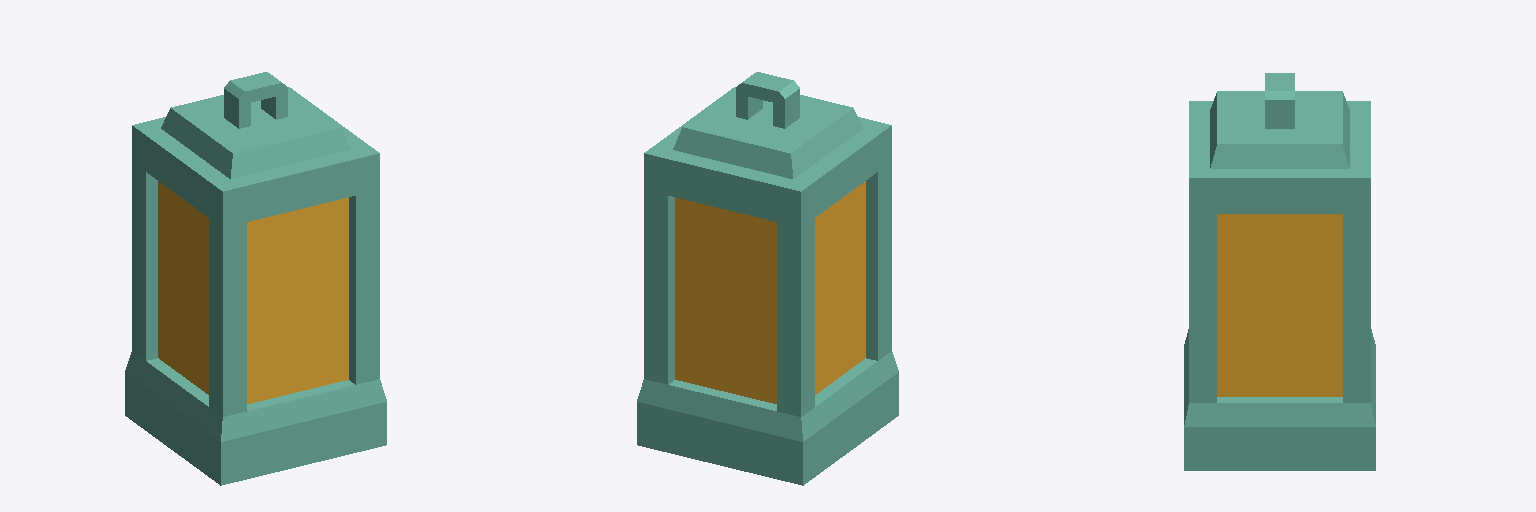
Rendered from lanternGlass.obj.
3 views of the same model, side by side, from view 1: azimuth 30°, elevation 25°; view 2: azimuth 150°, elevation 25°; view 3: azimuth 270°, elevation 25° (orthographic).
Visible parts, largest first — view 1: lanternGlass; view 2: lanternGlass; view 3: lanternGlass.
Boxes of the visible parts, <box> form: lanternGlass: <box>125,72,386,485</box>; lanternGlass: <box>637,72,898,485</box>; lanternGlass: <box>1184,73,1375,470</box>.
Size of the model in its own units: 1.46 by 2.92 by 1.46.